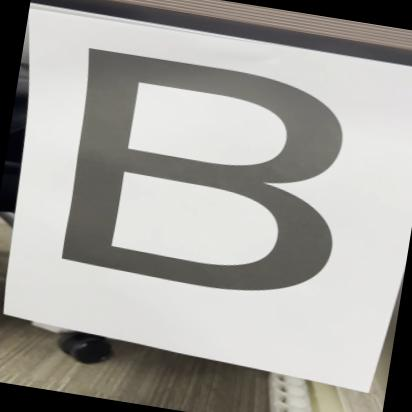seat: (27, 34, 377, 330)
